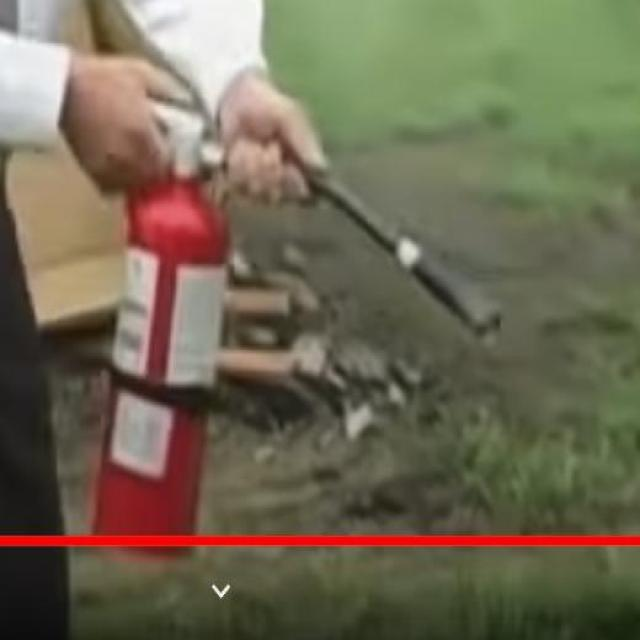fire_extinguisher: (75, 59, 508, 563)
